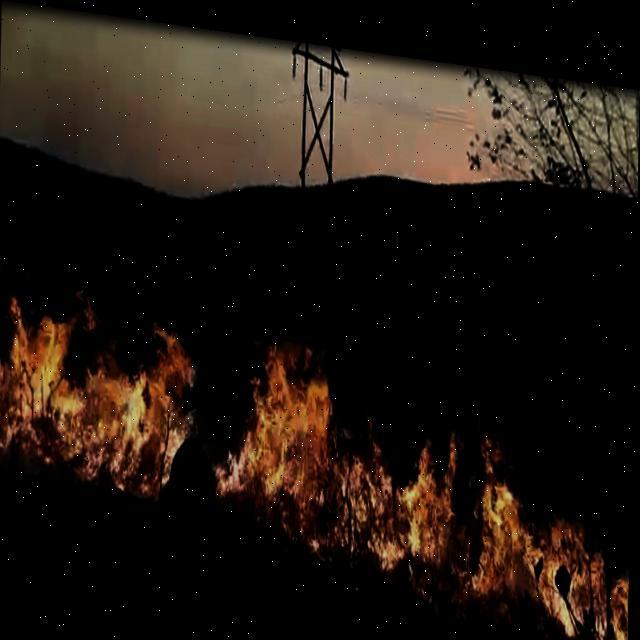Fire: (212, 313, 635, 639), (0, 268, 194, 508)
